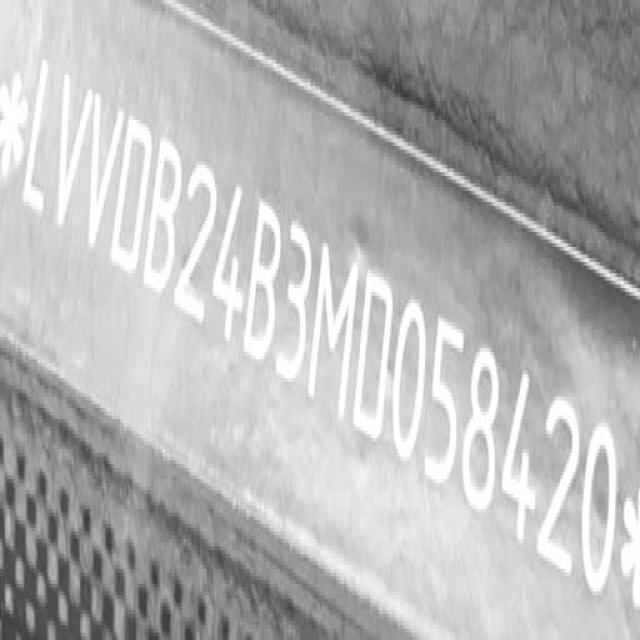0: (583, 405, 622, 606), (392, 286, 431, 474)
2: (541, 384, 584, 587), (179, 150, 220, 332)
3: (282, 204, 317, 397)
4: (502, 356, 542, 562), (210, 175, 249, 354)
5: (427, 304, 466, 498)
8: (461, 332, 501, 526)
B: (143, 126, 184, 305), (248, 192, 286, 378)
D: (356, 258, 397, 454), (114, 112, 154, 288)
L: (22, 57, 58, 224)
M: (311, 223, 361, 437)
V: (88, 99, 125, 256), (59, 64, 93, 228)
